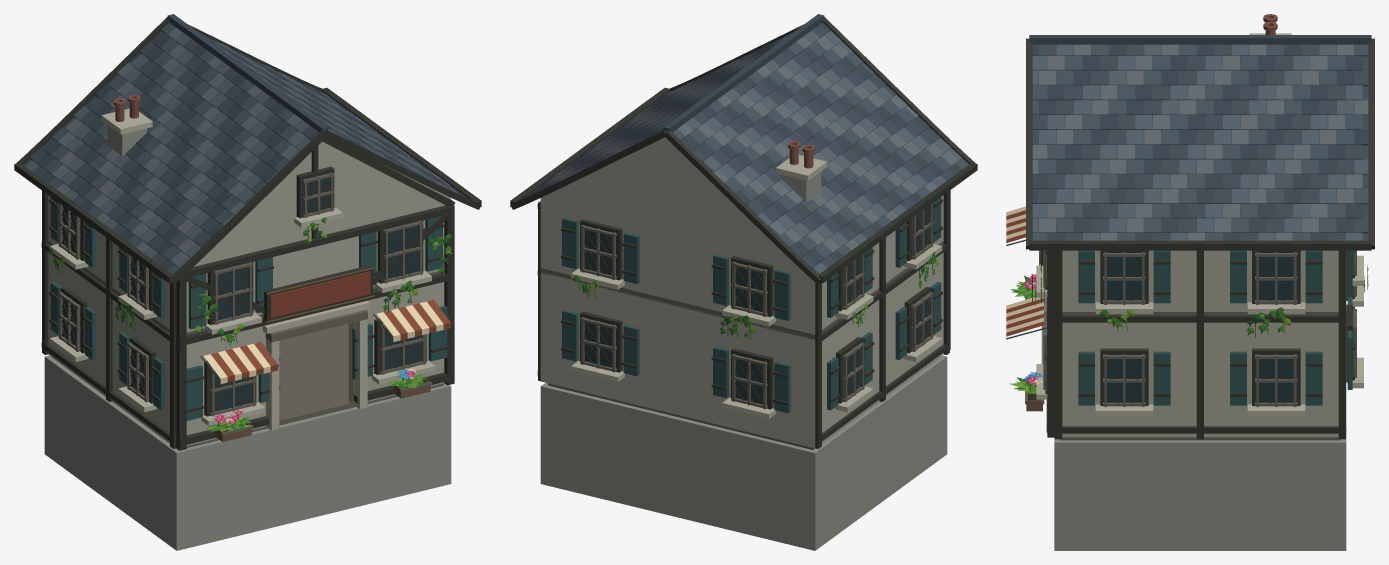
File: village_copperkettle.glb
3 renders of one model, left to right at view 1: azimuth 30°, elevation 25°; view 2: azimuth 150°, elevation 25°; view 3: azimuth 270°, elevation 25°, orthographic. The views are drawn at different scales.
Visible parts, largest first — view 1: village_copperkettle; view 2: village_copperkettle; view 3: village_copperkettle.
Boxes of the visible parts, <box> form: village_copperkettle: <box>14,14,481,550</box>; village_copperkettle: <box>510,14,977,550</box>; village_copperkettle: <box>1006,14,1374,550</box>.
Bounding box in the file's own units: 9.58 × 11.64 × 8.83.
